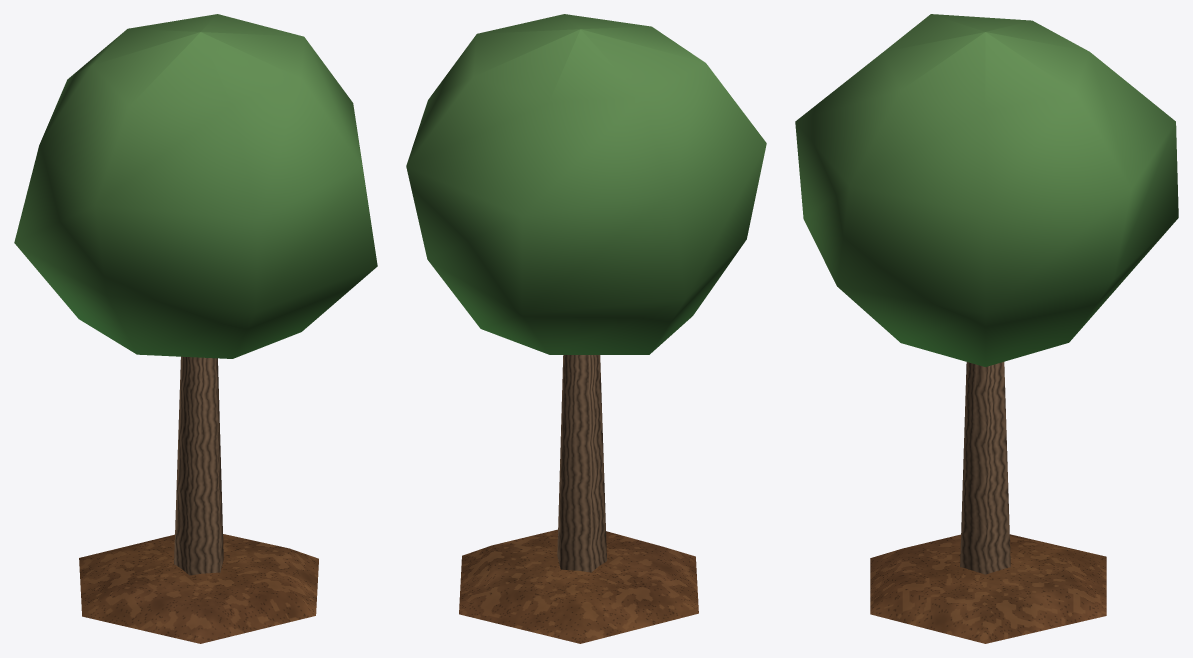
The model's file is plant-mango-3-far.glb.
3 renders of one model, left to right at view 1: azimuth 30°, elevation 25°; view 2: azimuth 150°, elevation 25°; view 3: azimuth 270°, elevation 25°, orthographic.
Parts seen in each view (by area): view 1: plant-mango-3-far; view 2: plant-mango-3-far; view 3: plant-mango-3-far.
Part boxes in pixels (<box>): plant-mango-3-far: <box>14,14,377,643</box>; plant-mango-3-far: <box>406,14,766,643</box>; plant-mango-3-far: <box>795,14,1178,643</box>.
Bounding box in the file's own units: 1.29 × 2.24 × 1.4.
3 materials, 2 textured.
